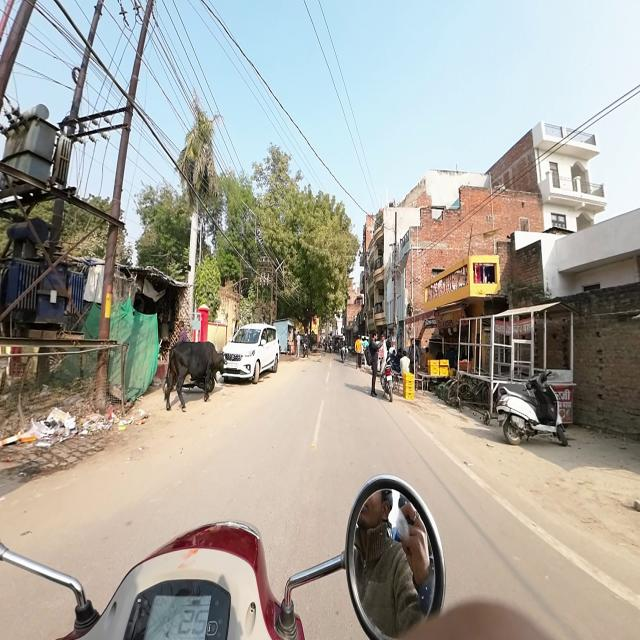Garbage: (23, 410, 79, 445), (81, 416, 102, 439), (0, 433, 22, 447)
